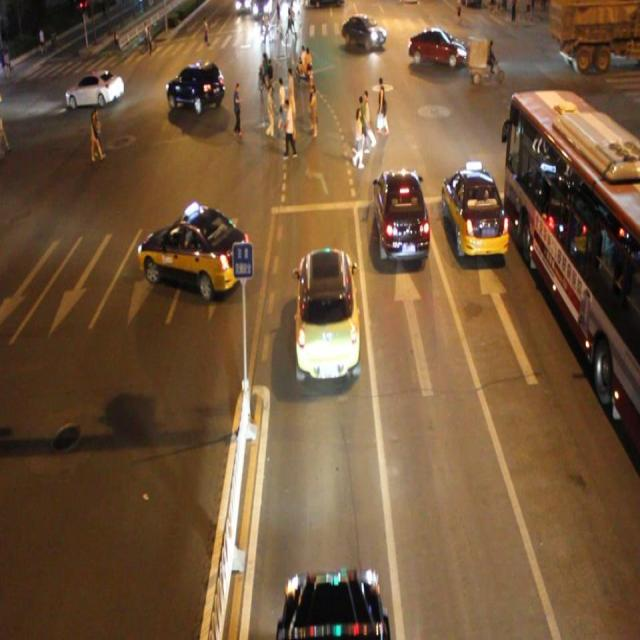car: (138, 204, 249, 299), (294, 247, 360, 381), (277, 566, 389, 640), (441, 170, 508, 260), (372, 167, 429, 264), (166, 60, 225, 115), (405, 26, 465, 70), (64, 70, 124, 108), (340, 13, 385, 53)
van: (502, 91, 640, 458)
